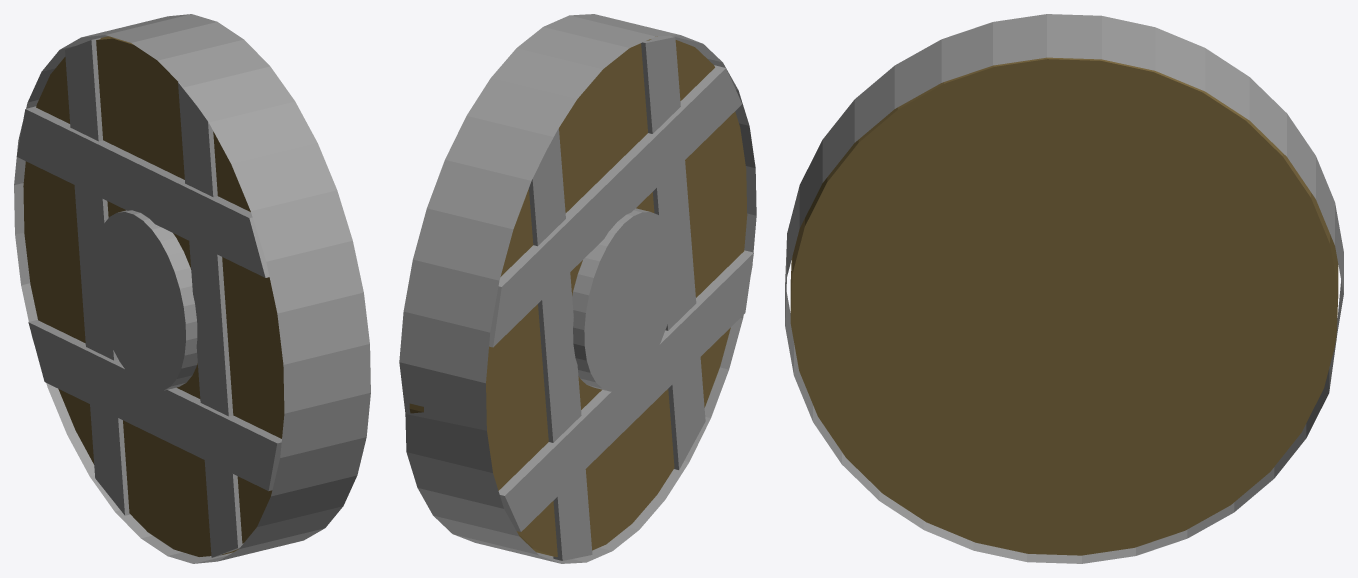
The model's file is rueda de madera v1.dae.
3 views of the same model, side by side, from view 1: azimuth 30°, elevation 25°; view 2: azimuth 150°, elevation 25°; view 3: azimuth 270°, elevation 25° (orthographic). The views are drawn at different scales.
Visible parts, largest first — view 1: Rueda_; view 2: Rueda_; view 3: Rueda_.
Part boxes in pixels (x1,y1,x2,y2): Rueda_: [14, 14, 370, 563]; Rueda_: [399, 14, 756, 563]; Rueda_: [785, 14, 1343, 563].
Bounding box in the file's own units: 0.21 × 1.03 × 1.03.
